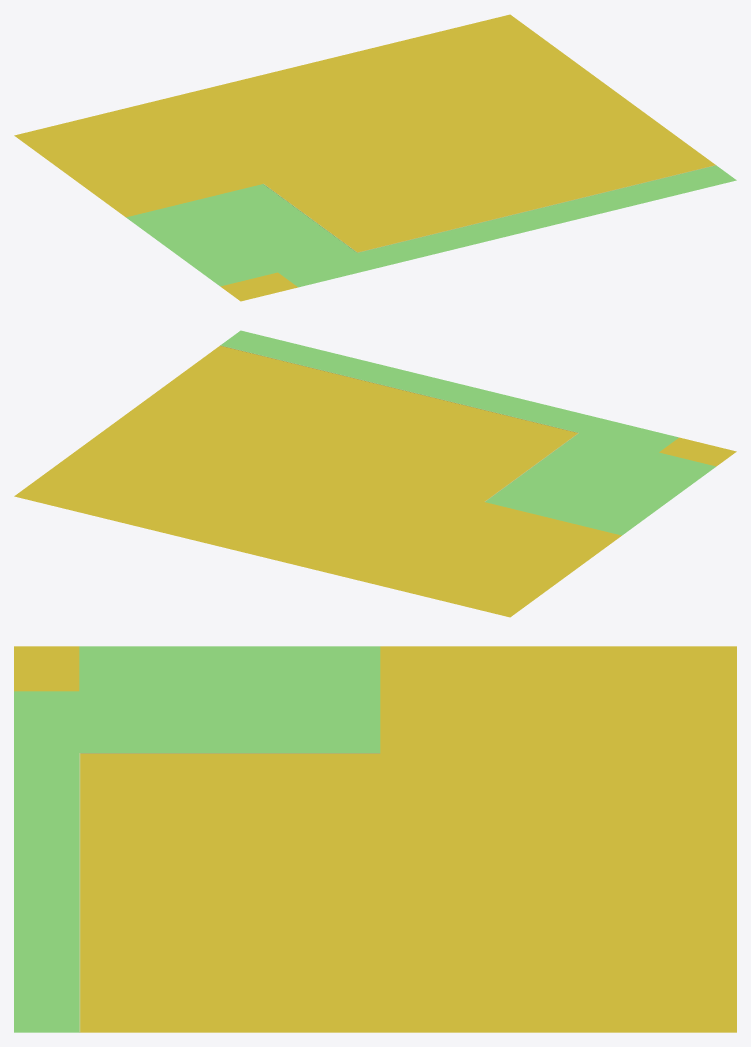
Rendered from floorA.fbx.
3 views of the same model, one above another, from view 1: azimuth 30°, elevation 25°; view 2: azimuth 150°, elevation 25°; view 3: azimuth 270°, elevation 25° (orthographic). The views are drawn at different scales.
Visible parts, largest first — view 1: floorA; view 2: floorA; view 3: floorA.
Boxes of the visible parts, box(x1,y1,x2,y2) form: floorA: box(14, 14, 736, 301); floorA: box(14, 330, 736, 617); floorA: box(14, 646, 736, 1032).
Bounding box in the file's own units: 1295 × 0.4 × 1025.
